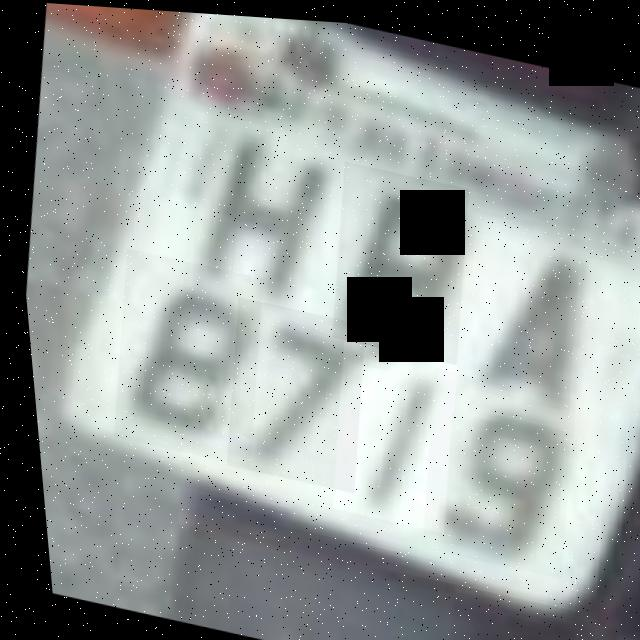1: (312, 334, 463, 529)
7: (207, 293, 372, 491)
8: (92, 245, 271, 466)
9: (400, 361, 582, 574)
A: (432, 201, 622, 438)
B: (314, 156, 479, 361)
H: (173, 110, 343, 309)
